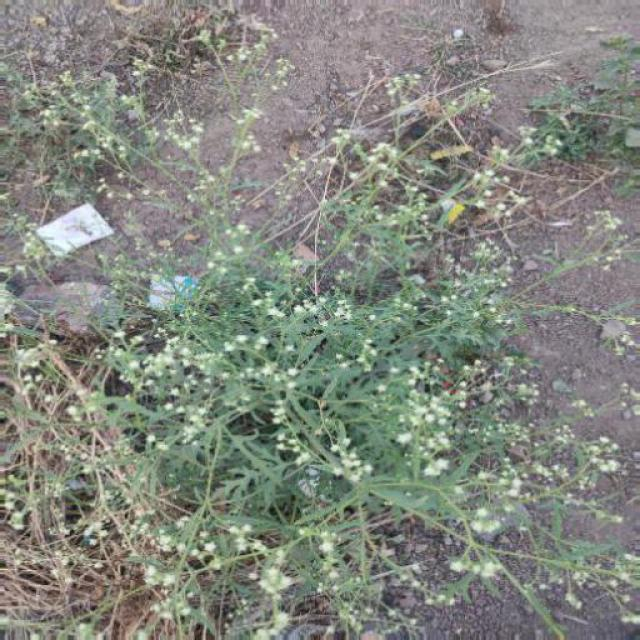weed: (26, 284, 472, 604), (99, 45, 526, 250)
